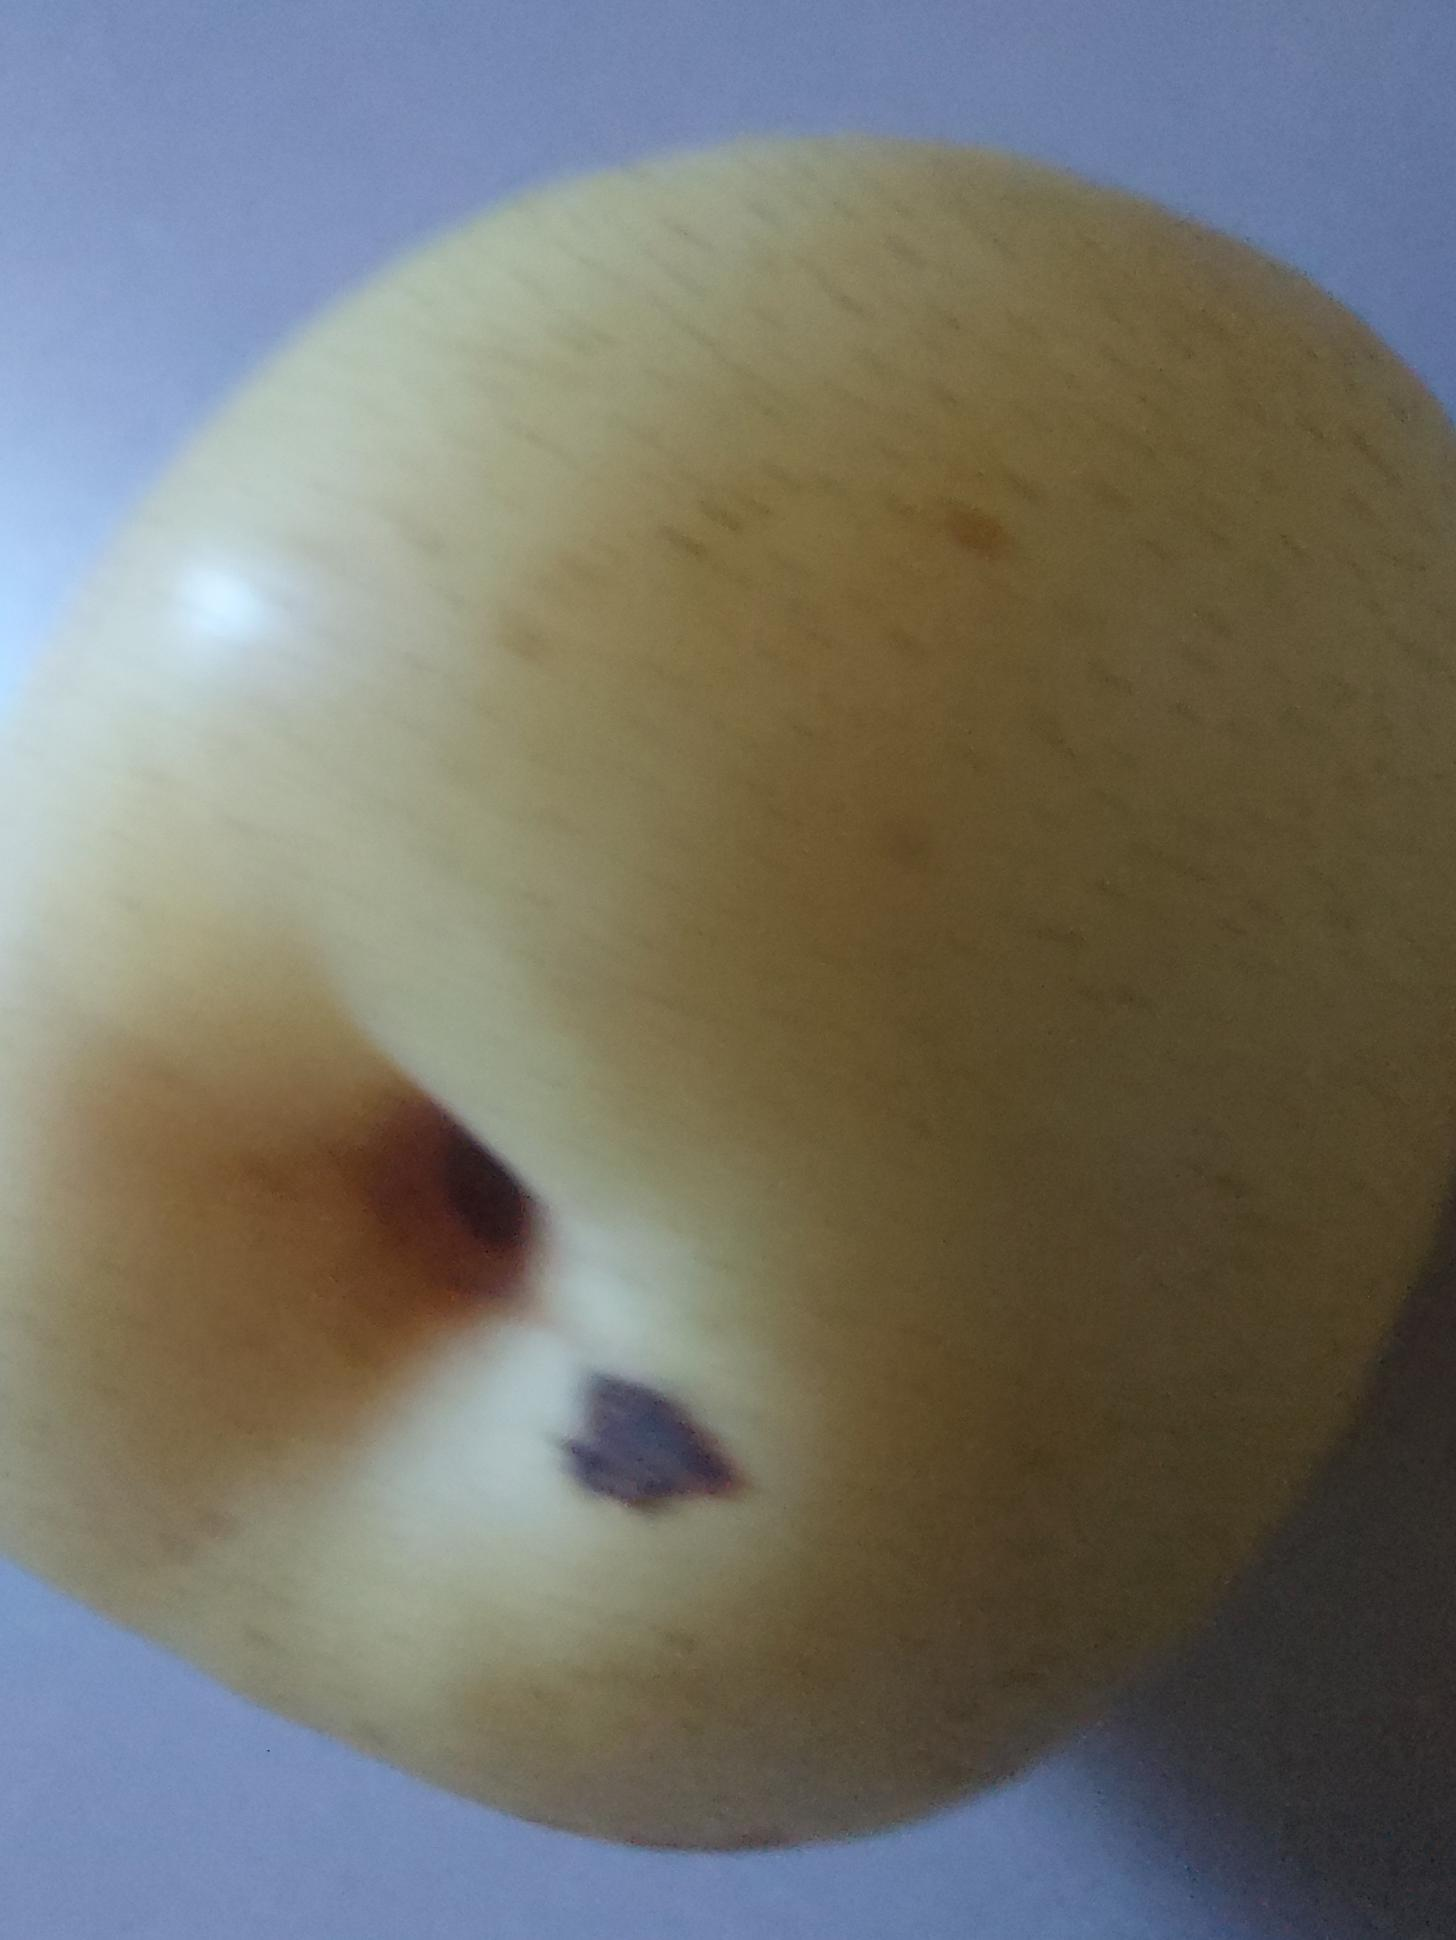Good Pear: (0, 75, 1456, 1912)
